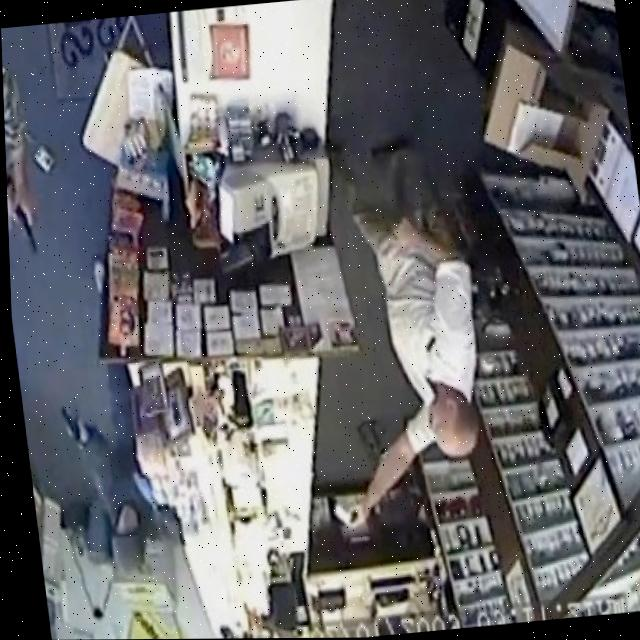pistol: (8, 200, 37, 257), (55, 406, 82, 440)
